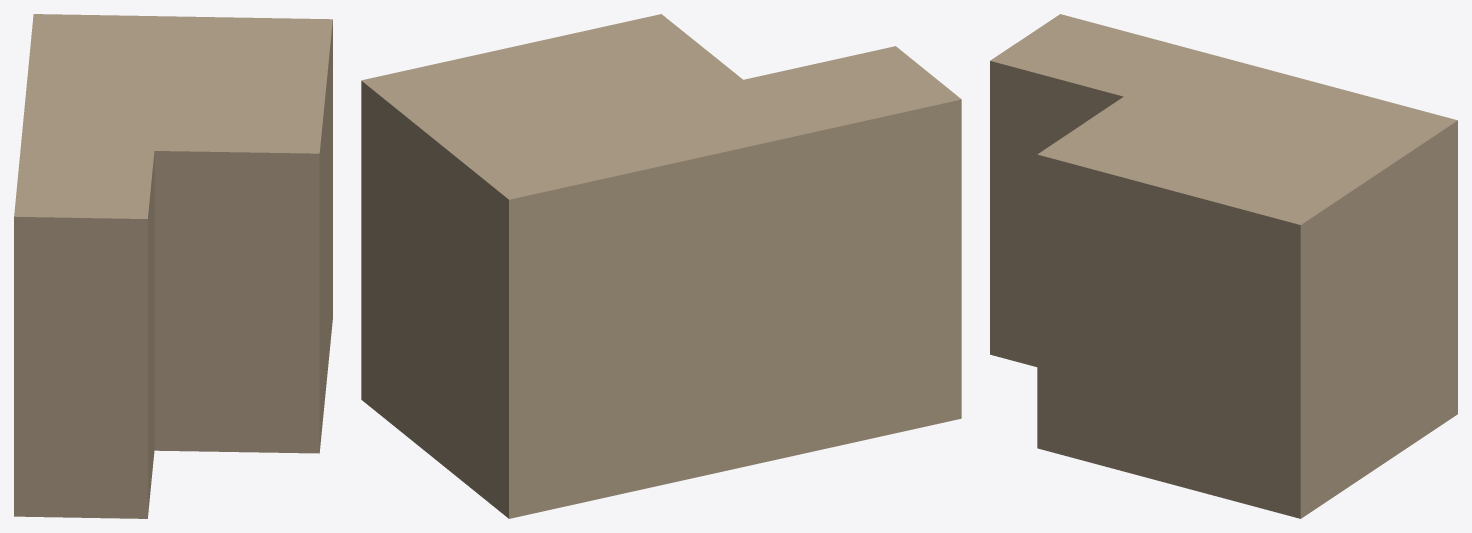
Rendered from bld_100469292.dae.
3 views of the same model, side by side, from view 1: azimuth 30°, elevation 25°; view 2: azimuth 150°, elevation 25°; view 3: azimuth 270°, elevation 25° (orthographic). The views are drawn at different scales.
Visible parts, largest first — view 1: bld_100469292; view 2: bld_100469292; view 3: bld_100469292.
Part boxes in pixels (x1,y1,x2,y2): bld_100469292: (14,14,332,518); bld_100469292: (361,14,961,518); bld_100469292: (990,14,1457,518).
Size of the model in its own units: 12.33 by 11.55 by 8.
